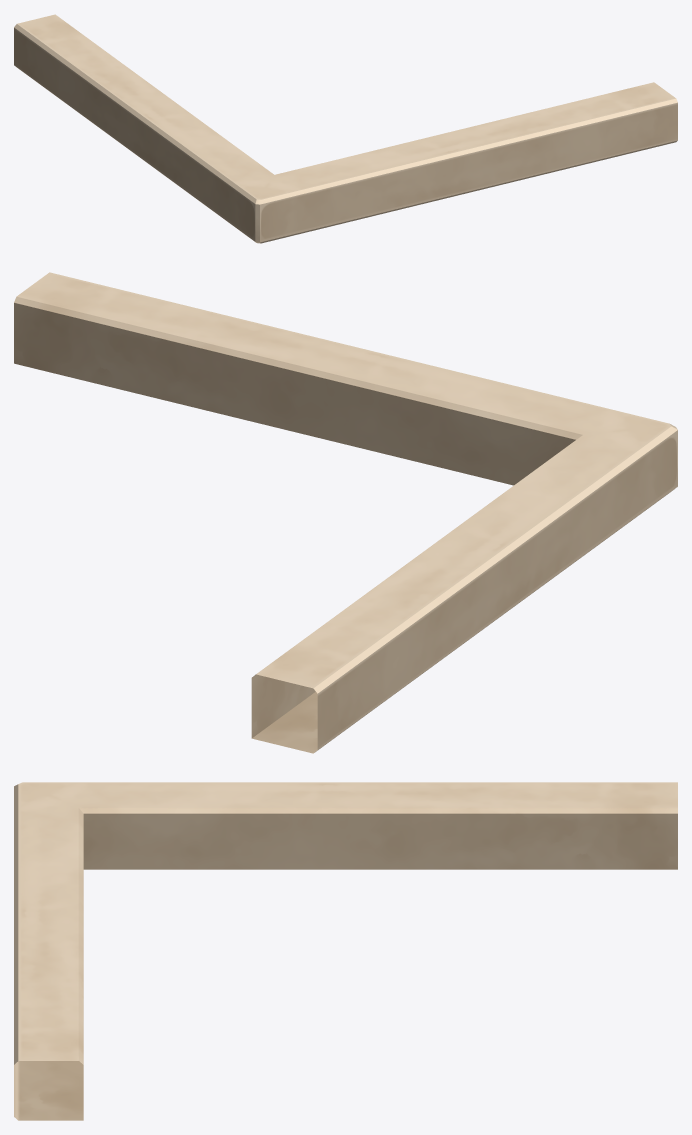
Rendered from SM_Roof_Top_Corner.FBX.
3 renders of one model, top to bottom at view 1: azimuth 30°, elevation 25°; view 2: azimuth 150°, elevation 25°; view 3: azimuth 270°, elevation 25°, orthographic. The views are drawn at different scales.
Visible parts, largest first — view 1: SM_Roof_Top_Corner; view 2: SM_Roof_Top_Corner; view 3: SM_Roof_Top_Corner.
Part boxes in pixels (left/top/right/bottom): SM_Roof_Top_Corner: left=14, top=14, right=677, bottom=243; SM_Roof_Top_Corner: left=14, top=272, right=677, bottom=753; SM_Roof_Top_Corner: left=14, top=782, right=677, bottom=1120.
Bounding box in the file's own units: 151 × 151 × 15.
